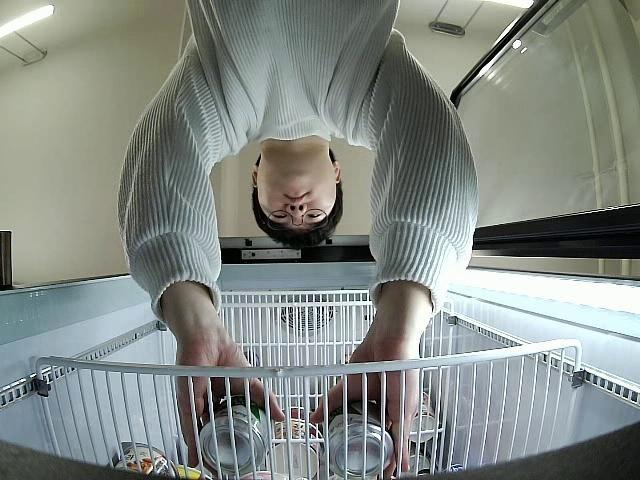12_chilsungCider: (198, 400, 274, 476), (321, 402, 395, 479)
